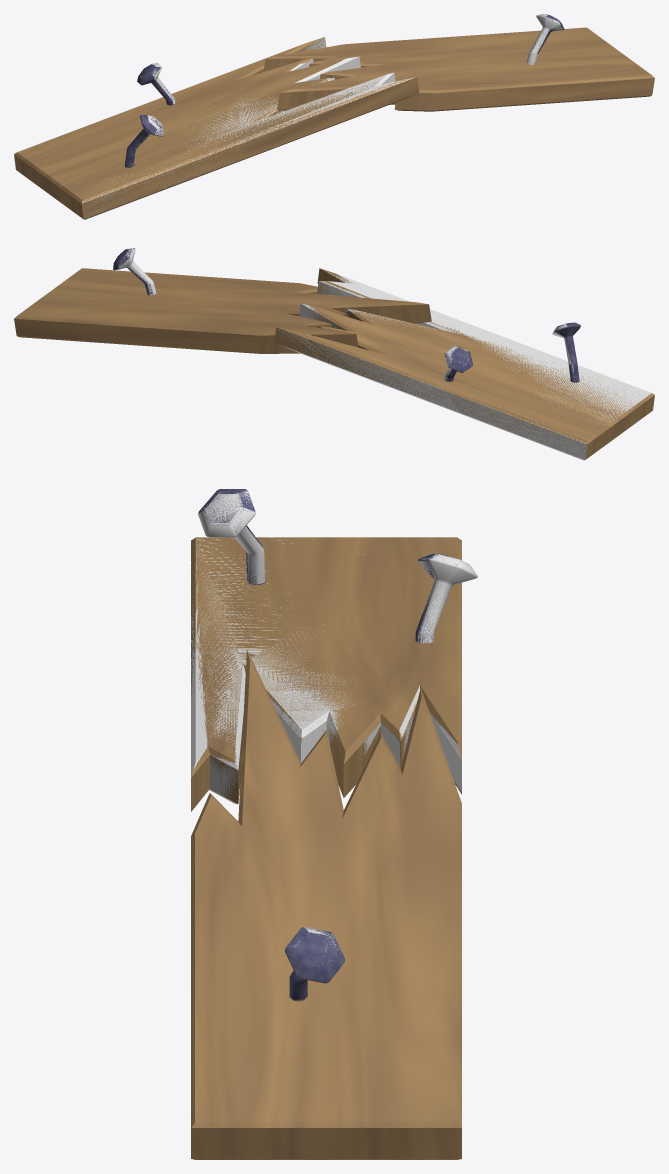
Rendered from woodPlanck.fbx.
3 views of the same model, one above another, from view 1: azimuth 30°, elevation 25°; view 2: azimuth 150°, elevation 25°; view 3: azimuth 270°, elevation 25° (orthographic). The views are drawn at different scales.
Parts seen in each view (by area): view 1: Bake, Plane, Cylinder; view 2: Bake, Plane, Cylinder; view 3: Bake, Plane, Cylinder.002, Cylinder.001.
Part boxes in pixels (<box>): Bake: <box>14,14,654,219</box>; Plane: <box>82,37,414,219</box>; Cylinder: <box>526,14,563,64</box>; Bake: <box>14,248,654,459</box>; Plane: <box>276,272,651,460</box>; Cylinder: <box>118,248,156,295</box>; Bake: <box>191,489,467,1159</box>; Plane: <box>191,537,461,803</box>; Cylinder.002: <box>198,490,264,584</box>; Cylinder.001: <box>417,554,477,643</box>.
Bounding box in the file's own units: 204 × 31.85 × 44.26.
3 materials, 1 textured.
